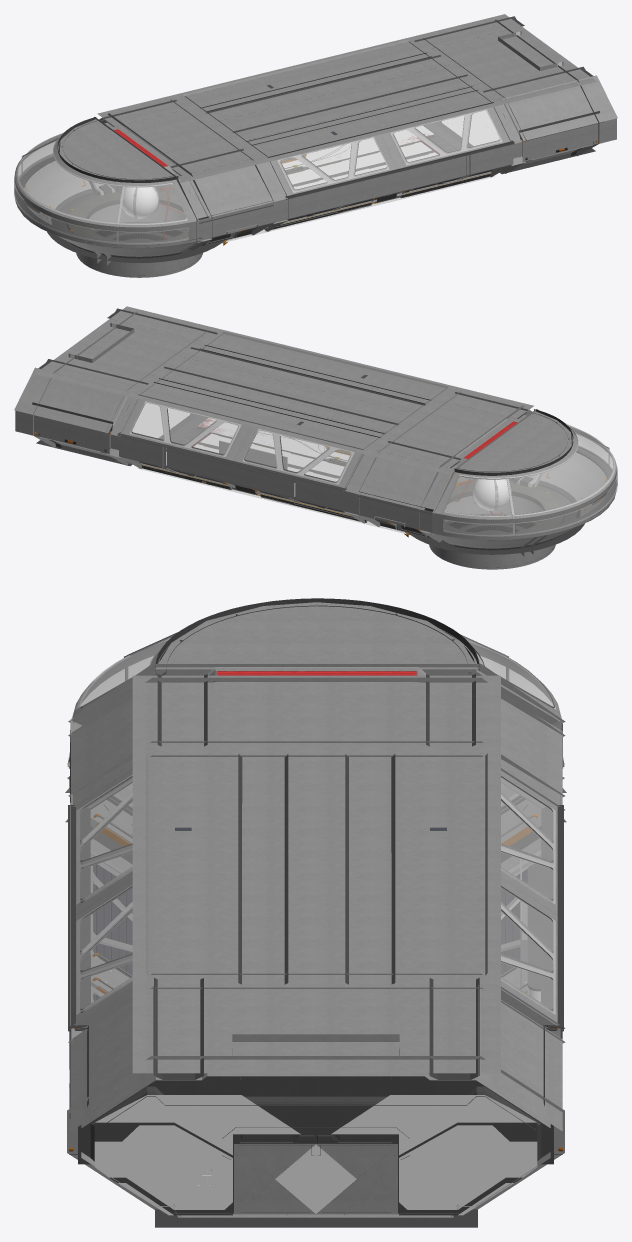
Rendered from free_fire_ob39_lobby_3d_model.glb.
The picture shows the model from 3 angles, top to bottom: view 1: azimuth 30°, elevation 25°; view 2: azimuth 150°, elevation 25°; view 3: azimuth 270°, elevation 25°; orthographic projection. The views are drawn at different scales.
Visible parts, largest first — view 1: Object_13, Object_6, Object_14, Object_2, Object_16, Object_19, Object_15, Object_9; view 2: Object_13, Object_6, Object_14, Object_2, Object_16, Object_15, Object_19, Object_9, Object_20; view 3: Object_13, Object_14, Object_17, Object_6, Object_16, Object_19, Object_15, Object_20.
Boxes of the visible parts, x1,y1,x2,y2 form: Object_13: [14, 14, 617, 277]; Object_6: [14, 109, 502, 244]; Object_14: [15, 16, 604, 275]; Object_2: [221, 110, 499, 243]; Object_16: [69, 123, 495, 239]; Object_19: [287, 142, 437, 189]; Object_15: [23, 129, 488, 240]; Object_9: [120, 187, 158, 218]; Object_13: [14, 306, 617, 569]; Object_6: [129, 401, 617, 536]; Object_14: [28, 308, 616, 567]; Object_2: [132, 403, 410, 535]; Object_16: [136, 415, 562, 531]; Object_15: [176, 421, 607, 532]; Object_19: [194, 434, 344, 481]; Object_9: [473, 479, 511, 510]; Object_20: [64, 436, 472, 534]; Object_13: [65, 602, 566, 1217]; Object_14: [68, 598, 563, 1227]; Object_17: [94, 970, 540, 1215]; Object_6: [71, 634, 556, 1014]; Object_16: [93, 864, 527, 1000]; Object_19: [275, 1144, 356, 1213]; Object_15: [215, 669, 417, 675]; Object_20: [75, 797, 556, 1028].
Bounding box in the file's own units: 79.94 × 15.43 × 33.03.
Materials: 21 (10 with a texture image).
